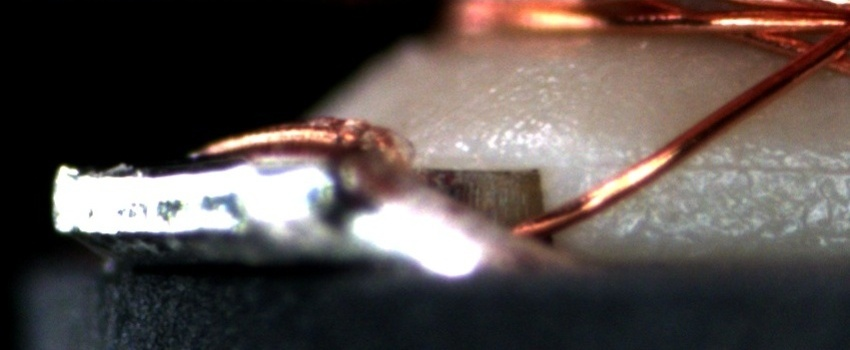CL: (776, 30, 845, 82)
DL: (622, 140, 849, 197)
TE: (191, 106, 405, 163)
